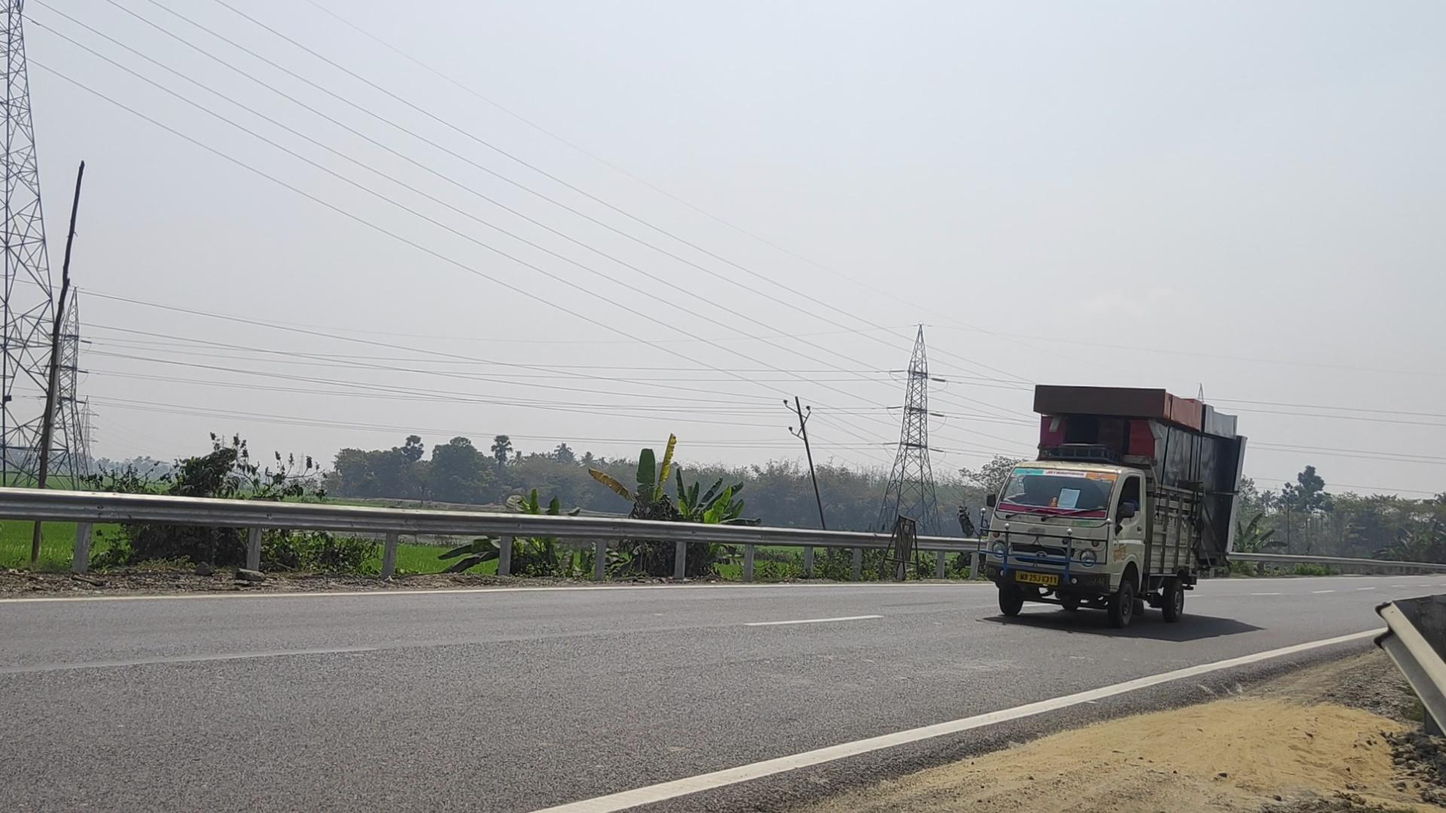van: (978, 385, 1247, 626)
